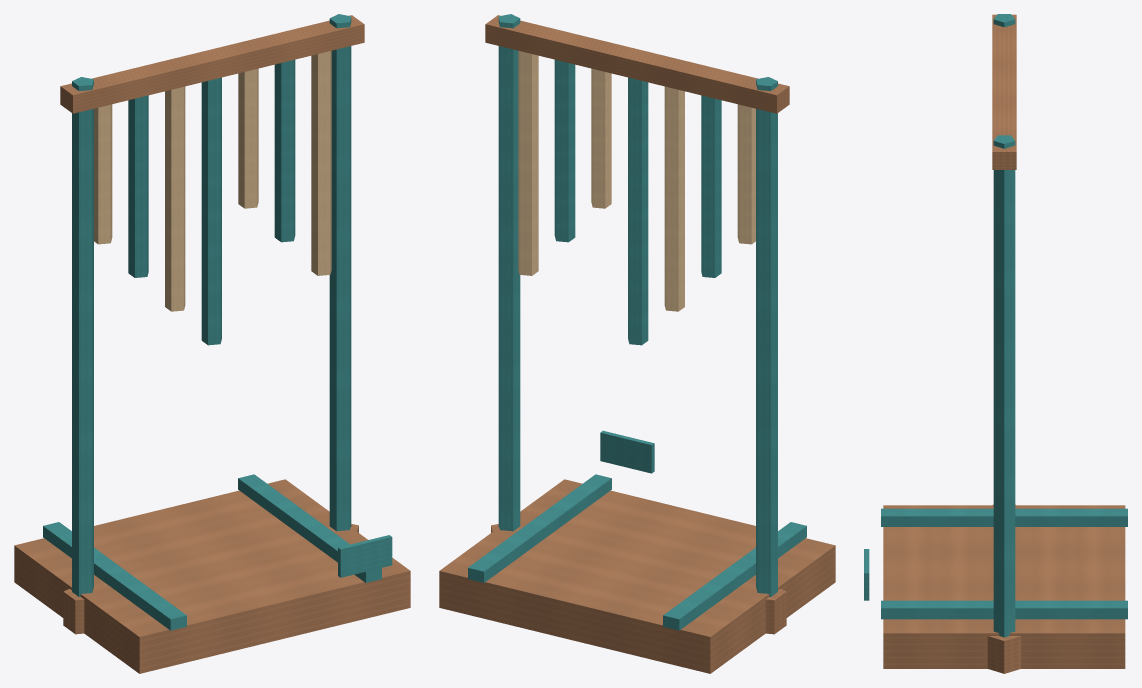
The model's file is atlas100-s093-a01.lod1.glb.
3 renders of one model, left to right at view 1: azimuth 30°, elevation 25°; view 2: azimuth 150°, elevation 25°; view 3: azimuth 270°, elevation 25°, orthographic. The views are drawn at different scales.
Parts seen in each view (by area): view 1: atlas100-s093-a01:part-000, atlas100-s093-a01:part-005, atlas100-s093-a01:part-003, atlas100-s093-a01:part-007, atlas100-s093-a01:part-011, atlas100-s093-a01:part-010, atlas100-s093-a01:part-014, atlas100-s093-a01:part-013, atlas100-s093-a01:part-009, atlas100-s093-a01:part-001, atlas100-s093-a01:part-002, atlas100-s093-a01:part-012 (+3 smaller); view 2: atlas100-s093-a01:part-000, atlas100-s093-a01:part-005, atlas100-s093-a01:part-003, atlas100-s093-a01:part-007, atlas100-s093-a01:part-011, atlas100-s093-a01:part-010, atlas100-s093-a01:part-014, atlas100-s093-a01:part-013, atlas100-s093-a01:part-009, atlas100-s093-a01:part-002, atlas100-s093-a01:part-001, atlas100-s093-a01:part-012 (+3 smaller); view 3: atlas100-s093-a01:part-000, atlas100-s093-a01:part-005, atlas100-s093-a01:part-002, atlas100-s093-a01:part-001, atlas100-s093-a01:part-007, atlas100-s093-a01:part-006.
Part boxes in pixels (x1,y1,x2,y2): atlas100-s093-a01:part-000: (14,479,410,673); atlas100-s093-a01:part-005: (329,14,351,531); atlas100-s093-a01:part-003: (72,77,93,596); atlas100-s093-a01:part-007: (60,15,364,113); atlas100-s093-a01:part-011: (201,77,221,345); atlas100-s093-a01:part-010: (165,86,185,311); atlas100-s093-a01:part-014: (311,51,331,275); atlas100-s093-a01:part-013: (274,59,295,242); atlas100-s093-a01:part-009: (128,95,148,277); atlas100-s093-a01:part-001: (43,522,186,630); atlas100-s093-a01:part-002: (238,474,381,582); atlas100-s093-a01:part-012: (238,68,258,208); atlas100-s093-a01:part-000: (439,479,835,673); atlas100-s093-a01:part-005: (498,14,520,531); atlas100-s093-a01:part-003: (756,77,777,596); atlas100-s093-a01:part-007: (485,15,789,113); atlas100-s093-a01:part-011: (628,77,648,345); atlas100-s093-a01:part-010: (664,86,684,311); atlas100-s093-a01:part-014: (518,51,538,275); atlas100-s093-a01:part-013: (554,59,575,242); atlas100-s093-a01:part-009: (701,95,721,277); atlas100-s093-a01:part-002: (468,474,611,582); atlas100-s093-a01:part-001: (663,522,806,630); atlas100-s093-a01:part-012: (591,68,611,208); atlas100-s093-a01:part-000: (883,505,1125,668); atlas100-s093-a01:part-005: (993,135,1015,637); atlas100-s093-a01:part-002: (881,600,1127,619); atlas100-s093-a01:part-001: (881,508,1127,526); atlas100-s093-a01:part-007: (992,14,1016,169); atlas100-s093-a01:part-006: (987,636,1020,673).
Size of the model in its own units: 2.16 by 3.84 by 1.74.
3 materials, 3 textured.
